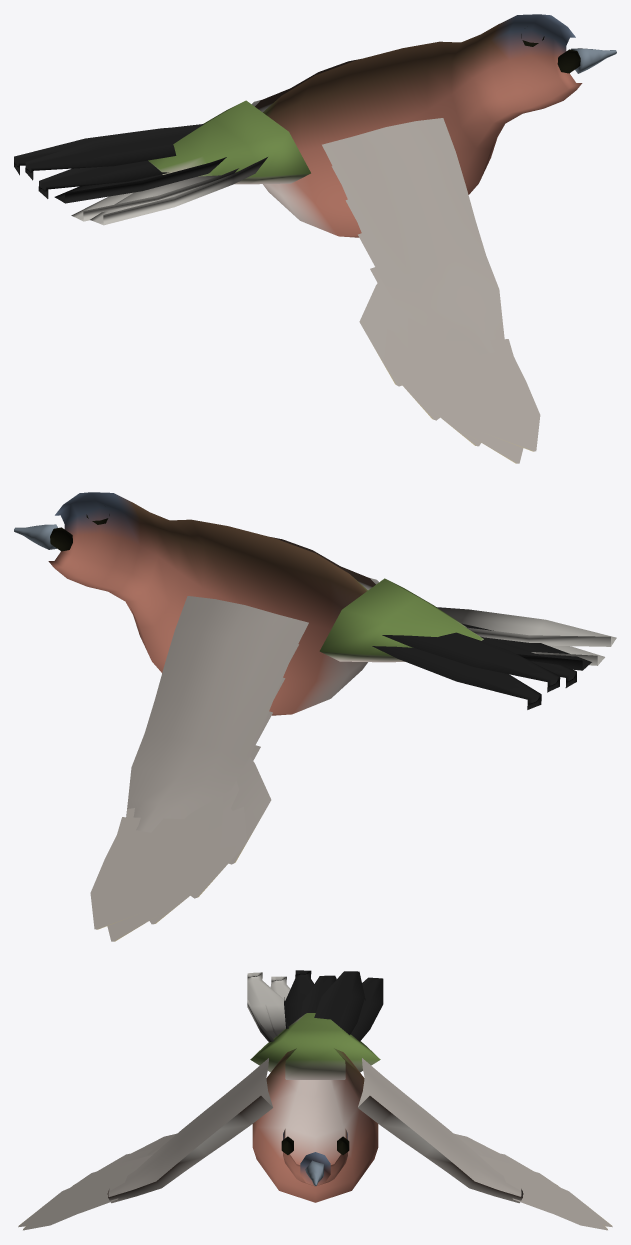
The model's file is SM_Bird_chaffinch_flap2_LOD1.glb.
3 views of the same model, one above another, from view 1: azimuth 30°, elevation 25°; view 2: azimuth 150°, elevation 25°; view 3: azimuth 270°, elevation 25° (orthographic). The views are drawn at different scales.
Visible parts, largest first — view 1: SM_Bird_chaffinch_flap2_LOD1; view 2: SM_Bird_chaffinch_flap2_LOD1; view 3: SM_Bird_chaffinch_flap2_LOD1.
Part boxes in pixels (x1,y1,x2,y2): SM_Bird_chaffinch_flap2_LOD1: (14,14,616,463); SM_Bird_chaffinch_flap2_LOD1: (14,492,616,941); SM_Bird_chaffinch_flap2_LOD1: (18,970,612,1230).
Bounding box in the file's own units: 0.1715 × 0.0739 × 0.2079.
